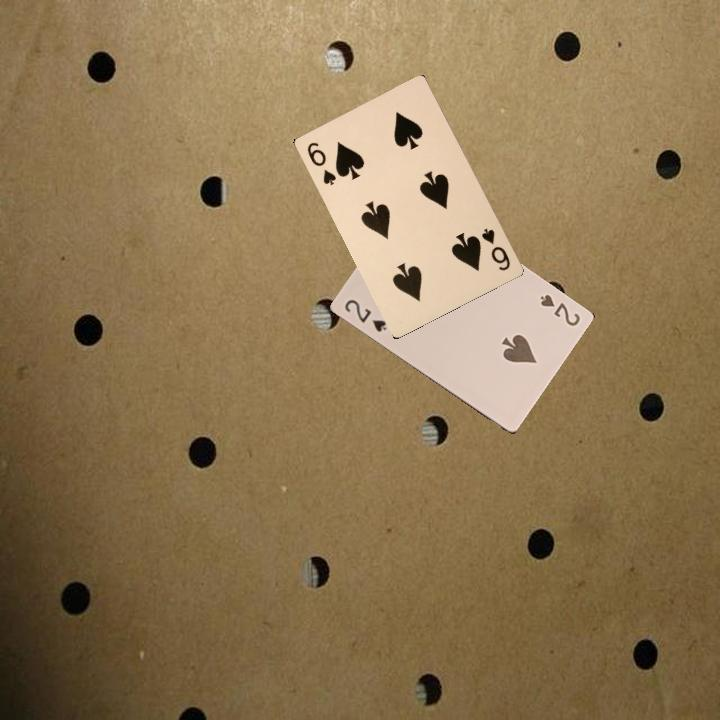2s: (340, 295, 389, 335), (536, 290, 583, 329)
6s: (303, 138, 339, 188), (477, 224, 513, 273)
